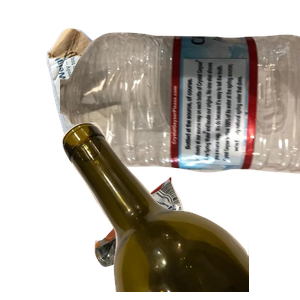cardboard: (44, 26, 209, 186)
glass: (60, 120, 300, 300)
plastic: (60, 30, 300, 196)
trash: (92, 174, 272, 300)
